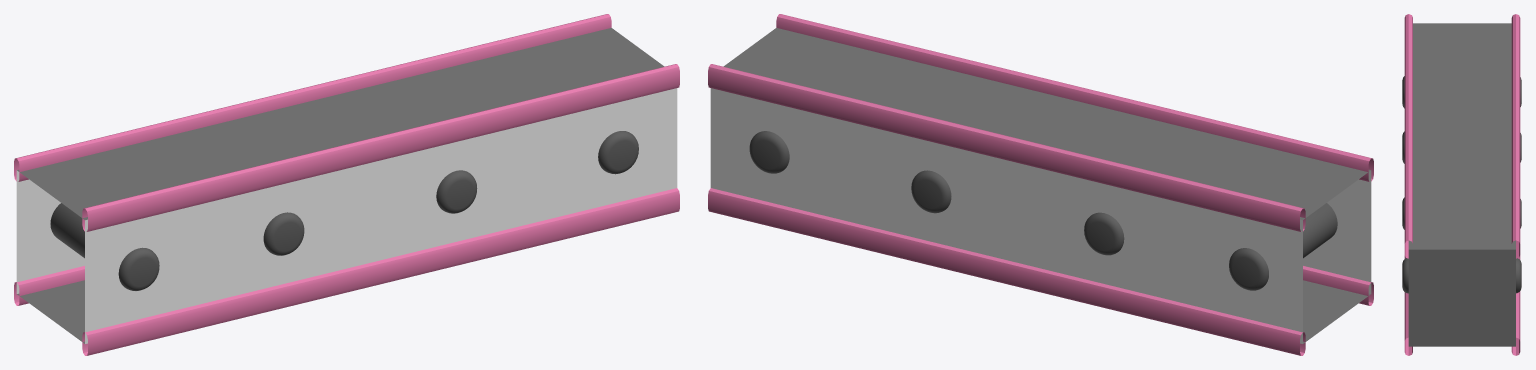
The model's file is parca11.fbx.
3 views of the same model, side by side, from view 1: azimuth 30°, elevation 25°; view 2: azimuth 150°, elevation 25°; view 3: azimuth 270°, elevation 25° (orthographic). The views are drawn at different scales.
Parts seen in each view (by area): view 1: 11; view 2: 11; view 3: 11.
Part boxes in pixels (x1,y1,x2,y2): 11: (14, 14, 679, 355); 11: (708, 14, 1373, 355); 11: (1402, 14, 1521, 355).
Bounding box in the file's own units: 10 × 2.38 × 2.22.
